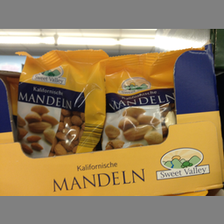nuts: (98, 47, 205, 150), (15, 49, 109, 158)
